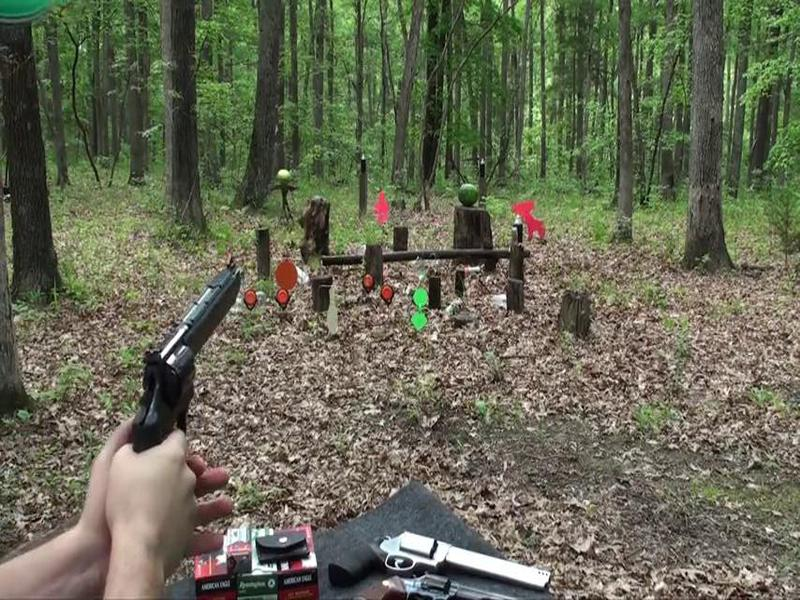Revolver: (107, 262, 251, 474)
